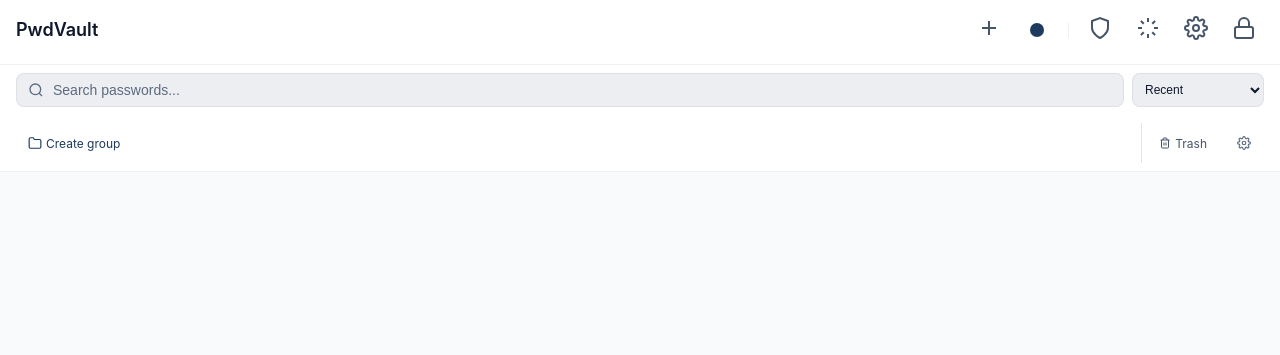
Test: VaultScreen trash (v1.4.0) › returns to the main list when the Trash tab is toggled again
The image size is (1280, 355).
Click the button "Trash" at (1183, 143), box [1146,131,1220,156]
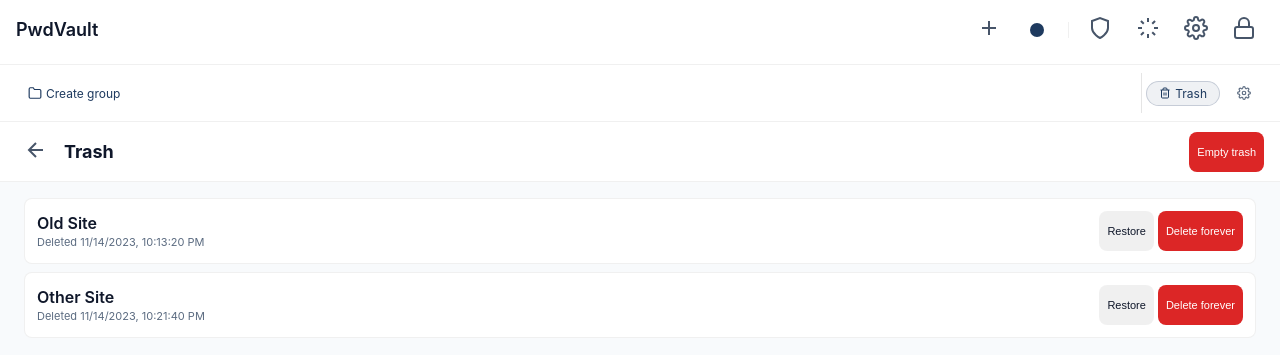
Check: the field labelled "Search passwords" is not shown
Check: the text "Old Site" is shown, box [37,213,97,233]
Click the button "Trash" at (1183, 93), box [1146,81,1220,106]
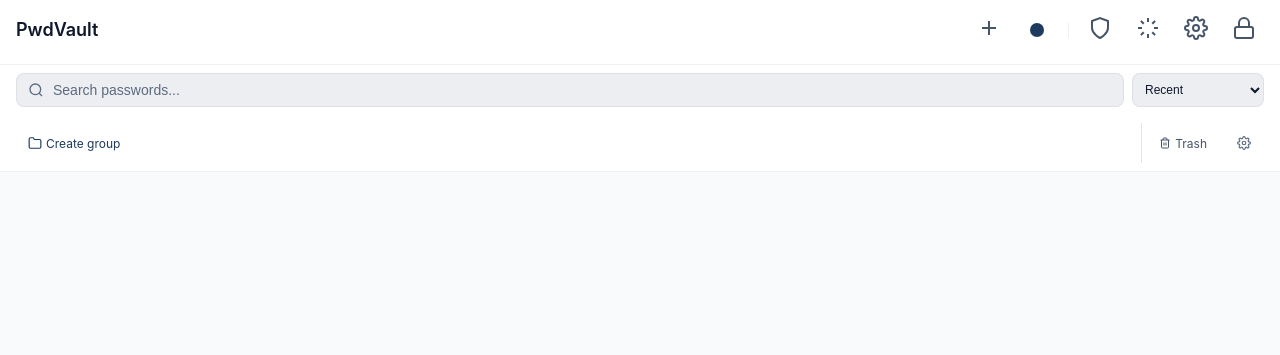
Check: the field labelled "Search passwords" is shown, box [16,73,1124,107]
Check: the text "Old Site" is gone
